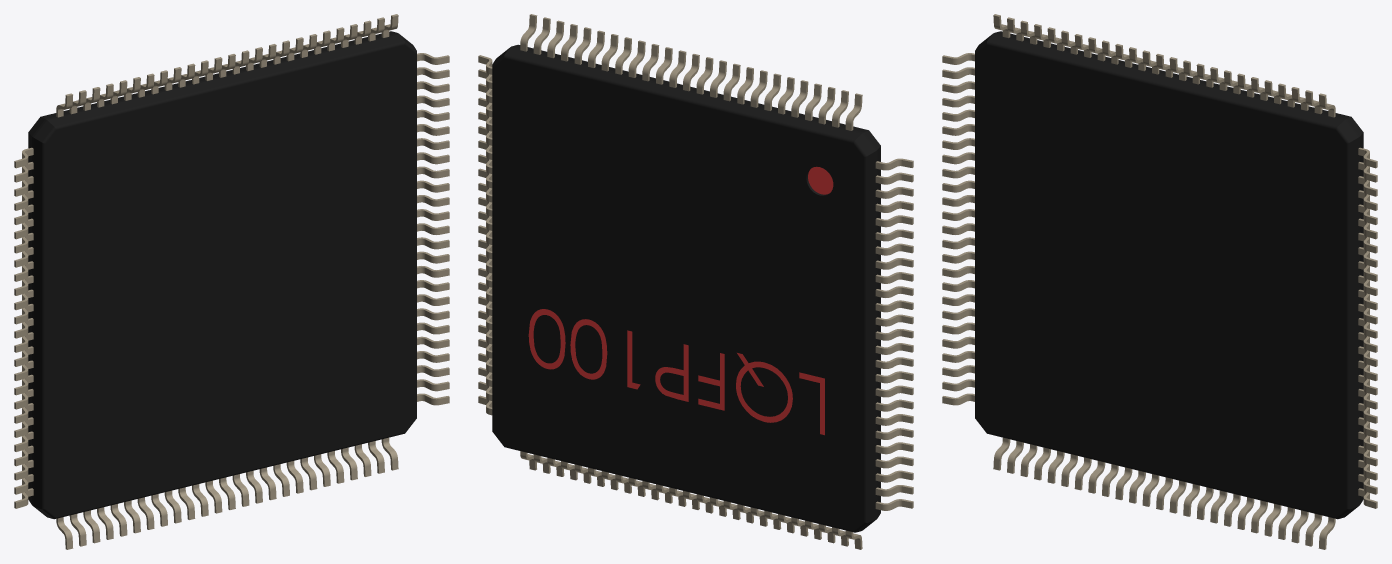
The model's file is LQFP100.glb.
3 renders of one model, left to right at view 1: azimuth 30°, elevation 25°; view 2: azimuth 150°, elevation 25°; view 3: azimuth 330°, elevation 25°, orthographic.
Visible parts, largest first — view 1: LQFP100; view 2: LQFP100; view 3: LQFP100.
Part boxes in pixels (x1,y1,x2,y2): LQFP100: (14,14,449,549); LQFP100: (478,14,913,549); LQFP100: (942,14,1377,549).
Bounding box in the file's own units: 0.016 × 0.016 × 0.00115.
